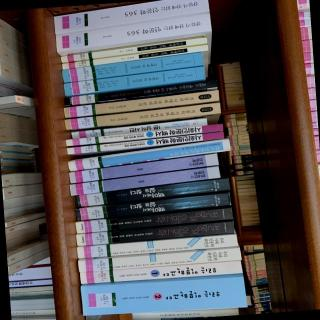book-spine: (80, 276, 247, 316), (54, 13, 212, 52), (67, 138, 230, 172), (52, 0, 209, 33), (73, 178, 230, 208), (74, 192, 230, 221), (68, 153, 218, 183), (62, 65, 205, 96), (61, 52, 203, 83), (64, 102, 221, 130), (69, 166, 220, 195), (63, 90, 219, 118), (75, 207, 232, 234), (77, 247, 241, 272), (76, 234, 237, 259), (63, 79, 217, 105), (60, 36, 207, 63), (79, 260, 242, 284), (61, 44, 208, 70), (66, 131, 224, 155), (76, 221, 234, 245), (64, 124, 222, 146), (70, 118, 207, 139)
